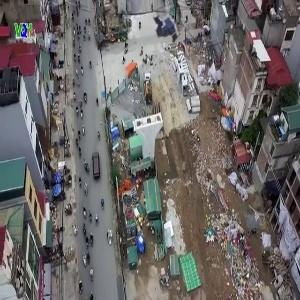drone: (147, 6, 193, 52)
